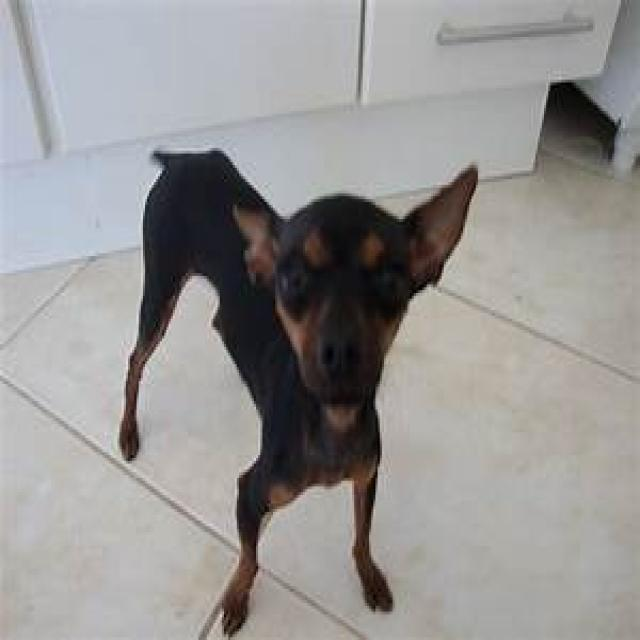dog: (119, 151, 478, 637)
